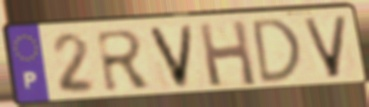2: (50, 31, 99, 95)
D: (250, 16, 304, 87)
H: (195, 18, 259, 89)
R: (93, 27, 155, 95)
V: (144, 22, 197, 91), (299, 14, 352, 81)
